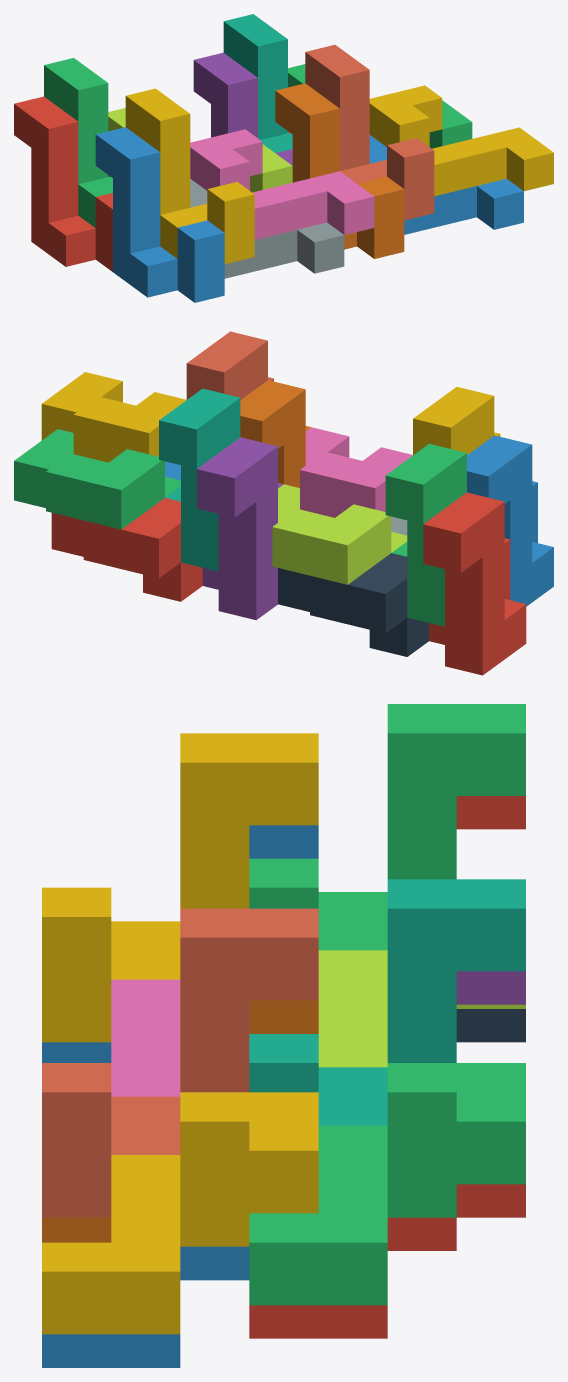
The model's file is tiling.obj.
The picture shows the model from 3 angles, top to bottom: view 1: azimuth 30°, elevation 25°; view 2: azimuth 150°, elevation 25°; view 3: azimuth 270°, elevation 25°; orthographic projection. The views are drawn at different scales.
Visible parts, largest first — view 1: copy_1_domain_2, copy_1_domain_1, copy_2_domain_8, copy_2_domain_4, copy_1_domain_4, copy_1_domain_8, copy_1_domain_6, copy_1_domain_3, copy_1_domain_7, copy_1_domain_5, copy_2_domain_2, copy_2_domain_6 (+2 smaller); view 2: copy_1_domain_1, copy_1_domain_5, copy_2_domain_7, copy_2_domain_3, copy_2_domain_1, copy_2_domain_5, copy_1_domain_3, copy_1_domain_7, copy_2_domain_8, copy_1_domain_2, copy_2_domain_4, copy_1_domain_6 (+2 smaller); view 3: copy_2_domain_7, copy_2_domain_8, copy_1_domain_8, copy_1_domain_4, copy_1_domain_7, copy_1_domain_3, copy_2_domain_5, copy_2_domain_3, copy_2_domain_4, copy_2_domain_6, copy_1_domain_6, copy_1_domain_2 (+3 smaller).
Part boxes in pixels (x1,y1,x2,y2): copy_1_domain_2: [95, 127, 224, 302]; copy_1_domain_1: [14, 96, 112, 271]; copy_2_domain_8: [369, 85, 553, 196]; copy_2_domain_4: [190, 129, 374, 239]; copy_1_domain_4: [125, 88, 254, 264]; copy_1_domain_8: [305, 44, 434, 220]; copy_1_domain_6: [275, 83, 404, 258]; copy_1_domain_3: [44, 58, 112, 227]; copy_1_domain_7: [223, 14, 292, 152]; copy_1_domain_5: [193, 52, 292, 165]; copy_2_domain_2: [190, 179, 344, 278]; copy_2_domain_6: [369, 135, 523, 234]; copy_1_domain_1: [423, 492, 526, 675]; copy_1_domain_5: [197, 437, 283, 620]; copy_2_domain_7: [14, 429, 180, 529]; copy_2_domain_3: [272, 484, 407, 584]; copy_2_domain_1: [278, 553, 428, 656]; copy_2_domain_5: [51, 498, 202, 601]; copy_1_domain_3: [385, 443, 466, 626]; copy_1_domain_7: [159, 388, 240, 571]; copy_2_domain_8: [41, 372, 186, 462]; copy_1_domain_2: [467, 435, 553, 606]; copy_2_domain_4: [300, 427, 412, 517]; copy_1_domain_6: [240, 380, 311, 487]; copy_2_domain_7: [249, 1063, 525, 1305]; copy_2_domain_8: [42, 1092, 318, 1334]; copy_1_domain_8: [42, 908, 318, 1217]; copy_1_domain_4: [42, 733, 318, 1042]; copy_1_domain_7: [249, 879, 525, 1125]; copy_1_domain_3: [249, 704, 525, 950]; copy_2_domain_5: [249, 1184, 525, 1338]; copy_2_domain_3: [318, 950, 525, 1067]; copy_2_domain_4: [111, 979, 180, 1096]; copy_2_domain_6: [42, 1246, 249, 1367]; copy_1_domain_6: [42, 1000, 318, 1242]; copy_1_domain_2: [42, 825, 318, 1062].
Size of the model in its own units: 14 by 5 by 7.
